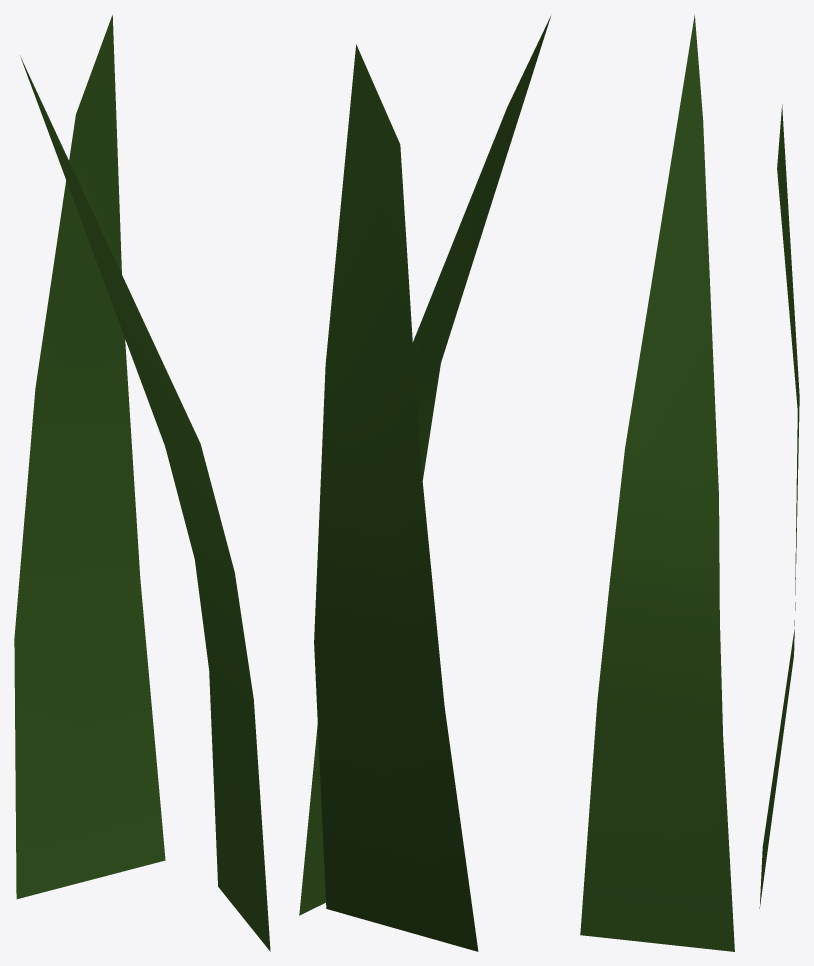
Rendered from cesped3.glb.
The picture shows the model from 3 angles, left to right: view 1: azimuth 30°, elevation 25°; view 2: azimuth 150°, elevation 25°; view 3: azimuth 270°, elevation 25°; orthographic projection. The views are drawn at different scales.
Visible parts, largest first — view 1: cesped3; view 2: cesped3; view 3: cesped3.
Part boxes in pixels (box(x1,y1,x2,y2)): cesped3: box(14, 15, 270, 951); cesped3: box(299, 16, 550, 951); cesped3: box(580, 14, 799, 951).
Size of the model in its own units: 0.1665 by 0.6514 by 0.1545.
